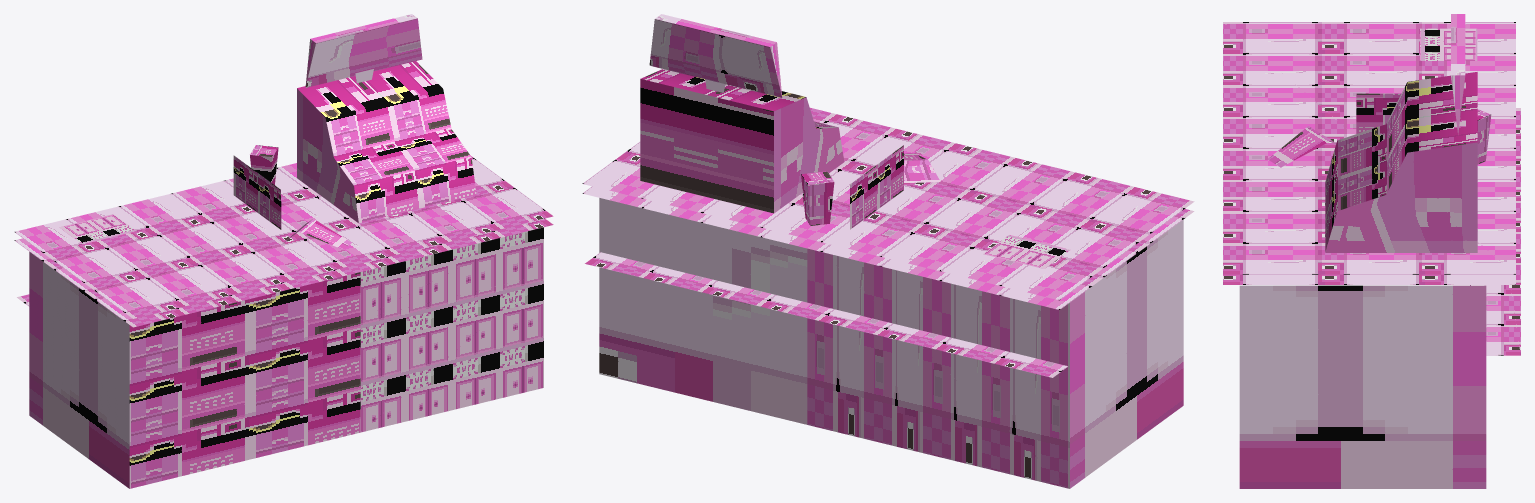
File: 3894kg3_shp16.gltf
3 views of the same model, side by side, from view 1: azimuth 30°, elevation 25°; view 2: azimuth 150°, elevation 25°; view 3: azimuth 270°, elevation 25° (orthographic). The views are drawn at different scales.
Visible parts, largest first — view 1: 3894kg3_shp16; view 2: 3894kg3_shp16; view 3: 3894kg3_shp16.
Part boxes in pixels (box(x1,y1,x2,y2)): 3894kg3_shp16: box(14, 14, 553, 488); 3894kg3_shp16: box(582, 14, 1194, 488); 3894kg3_shp16: box(1223, 14, 1520, 488).
Size of the model in its own units: 1.8 by 1.3 by 0.8982.
3 materials, 3 textured.
